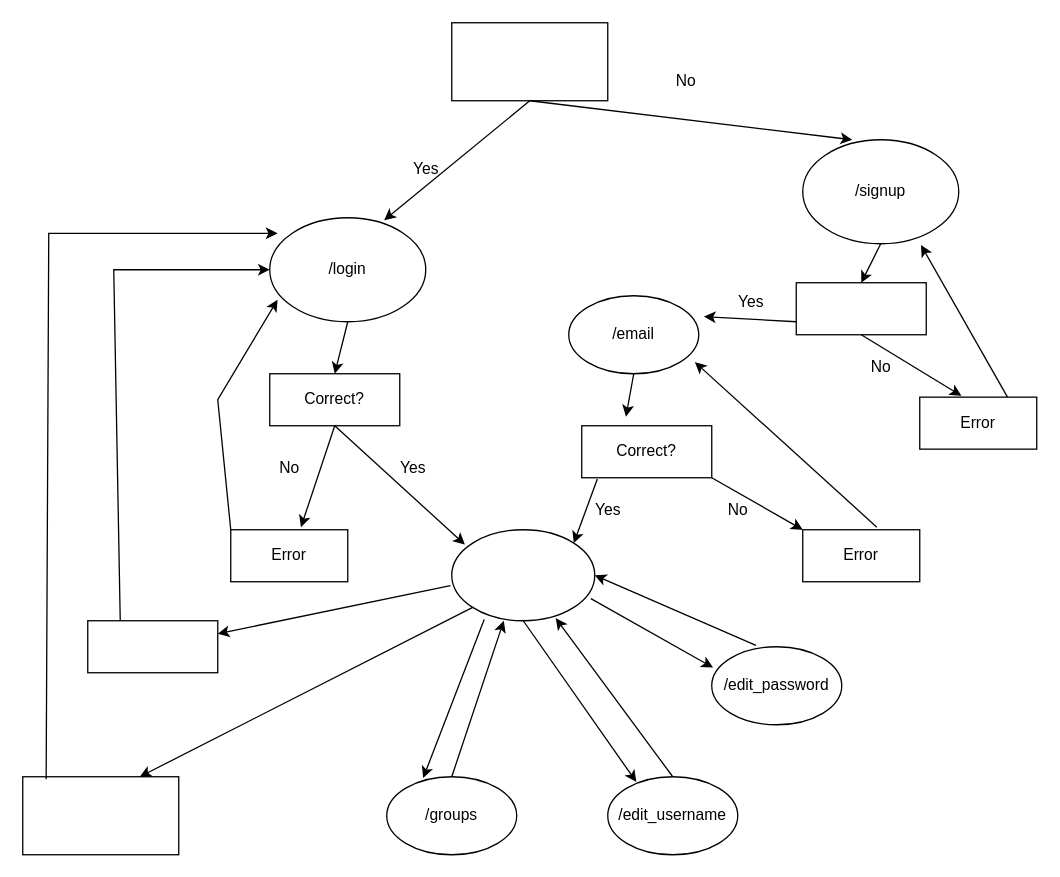
This 1060x877 diagram has some shape labels left out. Here are the shapes that lost their labels. From the top down, the box of each, then its label:
(450, 21, 608, 101): Do you have an account?
(795, 281, 926, 335): Unique?
(450, 528, 595, 621): /app
(86, 619, 218, 673): Signout
(21, 775, 179, 855): Delete user
